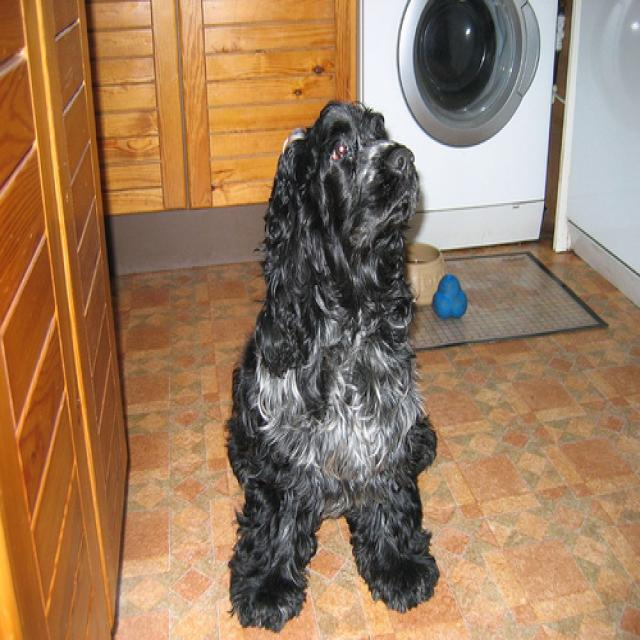dog-english_cocker_spaniel: (216, 80, 448, 633)
